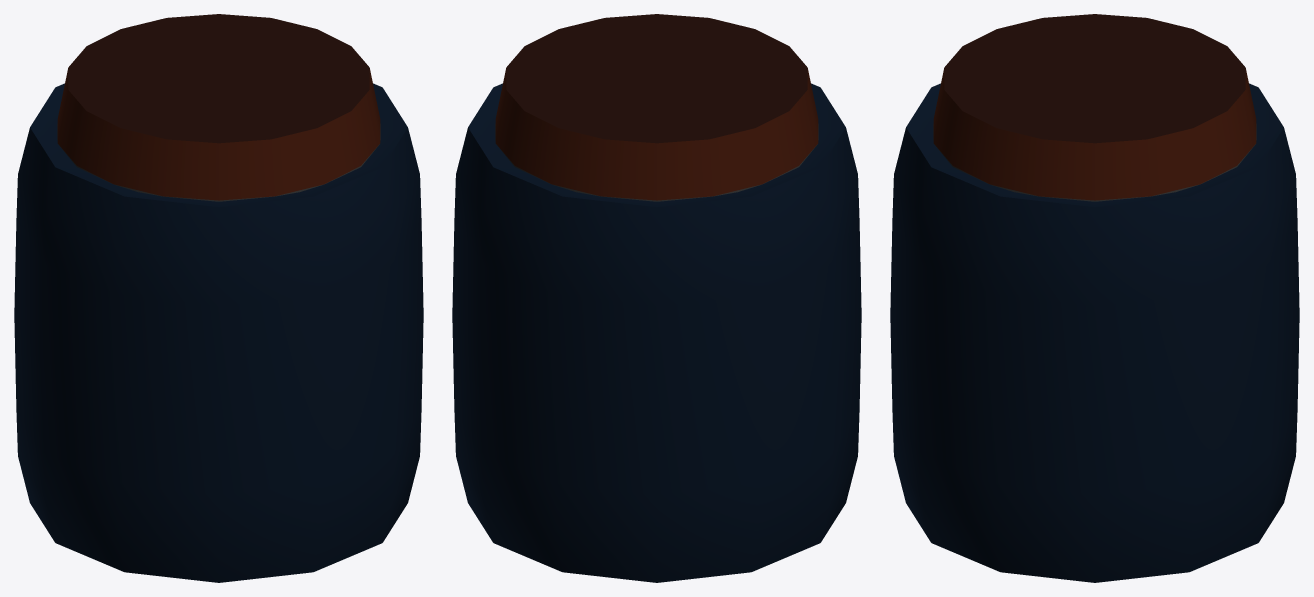
The model's file is Barrels.FBX.
3 views of the same model, side by side, from view 1: azimuth 30°, elevation 25°; view 2: azimuth 150°, elevation 25°; view 3: azimuth 270°, elevation 25° (orthographic).
Parts seen in each view (by area): view 1: OilTank001, Cylinder001; view 2: OilTank001, Cylinder001; view 3: OilTank001, Cylinder001.
Part boxes in pixels (x1,y1,x2,y2): OilTank001: (14,83,423,582); Cylinder001: (57,14,380,201); OilTank001: (452,83,861,582); Cylinder001: (495,14,818,201); OilTank001: (890,83,1299,582); Cylinder001: (933,14,1256,201).
Bounding box in the file's own units: 21.34 × 21.34 × 25.4.
